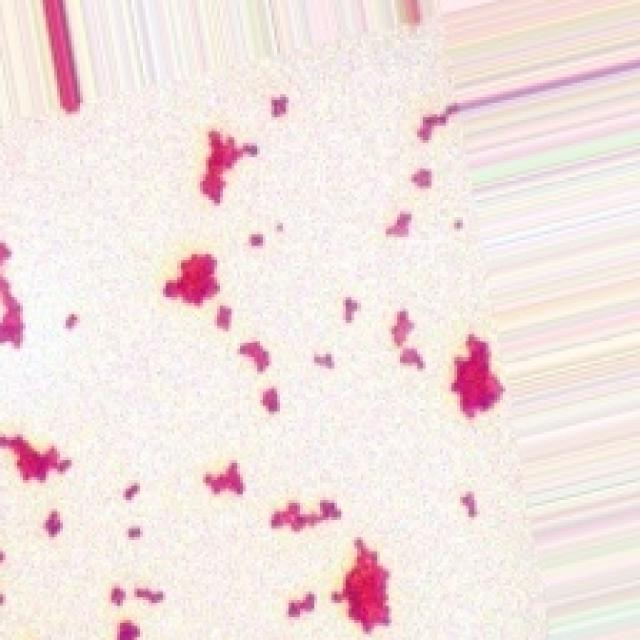Spherical_bacteria: (0, 22, 551, 637)
